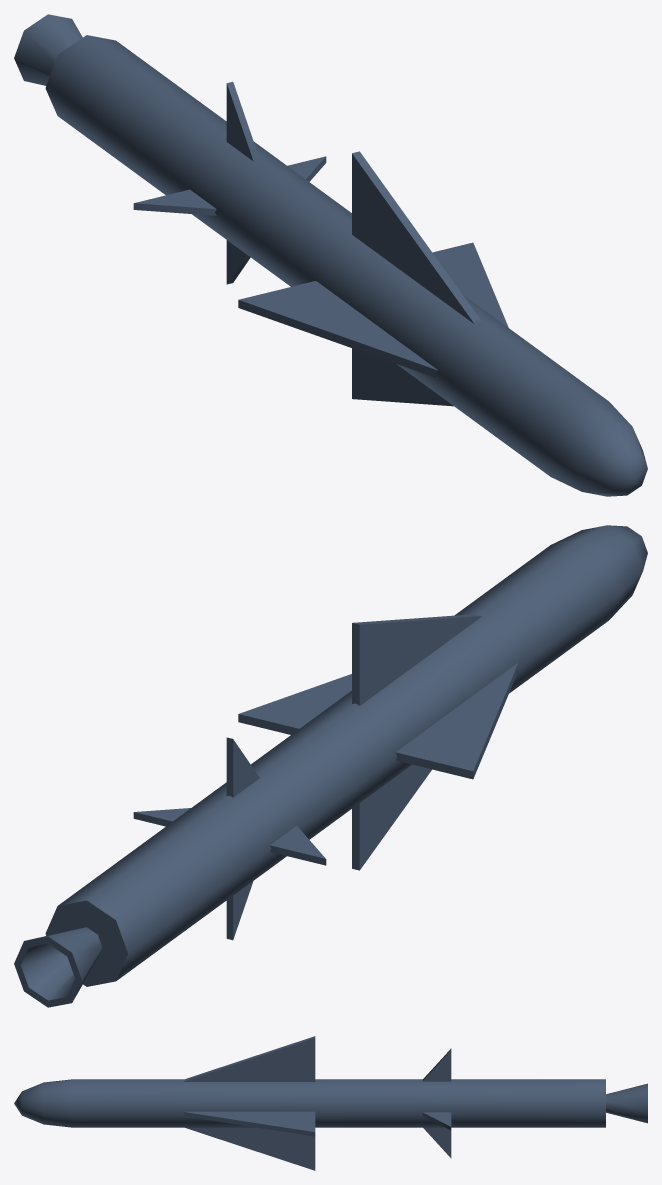
The model's file is ssm-1.fbx.
3 views of the same model, one above another, from view 1: azimuth 30°, elevation 25°; view 2: azimuth 150°, elevation 25°; view 3: azimuth 270°, elevation 25° (orthographic). The views are drawn at different scales.
Visible parts, largest first — view 1: missile; view 2: missile; view 3: missile.
Boxes of the visible parts, bbox=[...] form: missile: bbox=[14, 14, 647, 496]; missile: bbox=[14, 525, 647, 1007]; missile: bbox=[14, 1036, 647, 1170].
Size of the model in its own units: 28.78 by 28.78 by 124.
